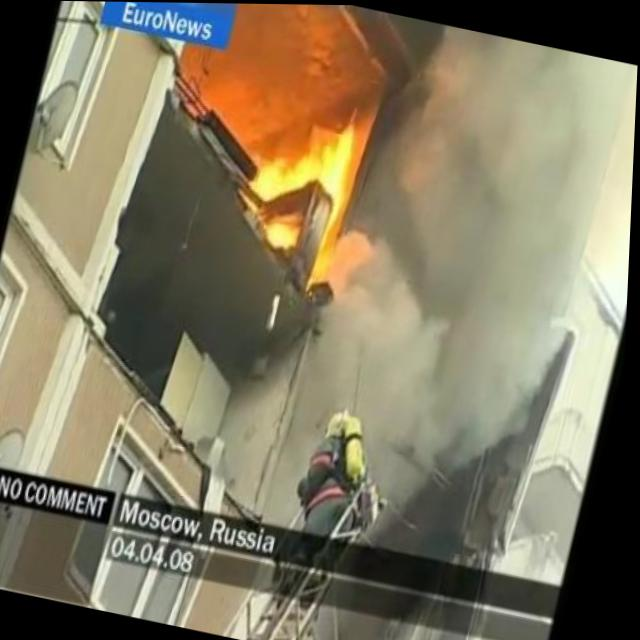fire: (231, 90, 369, 260)
